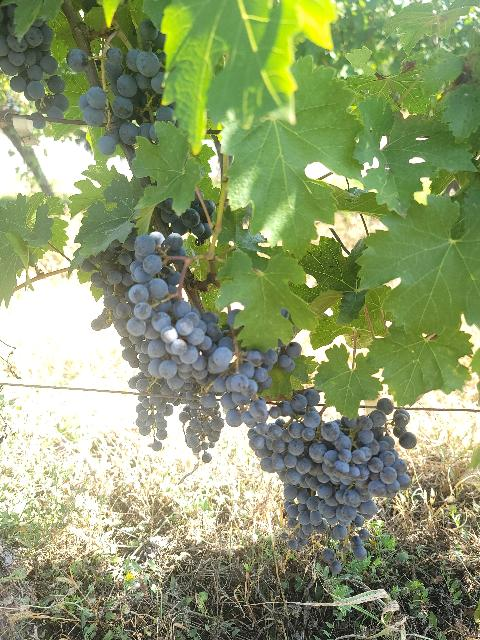grapes: (126, 235, 279, 420), (299, 398, 418, 560), (244, 395, 340, 550), (81, 234, 142, 369), (121, 338, 175, 450), (179, 405, 225, 462)
